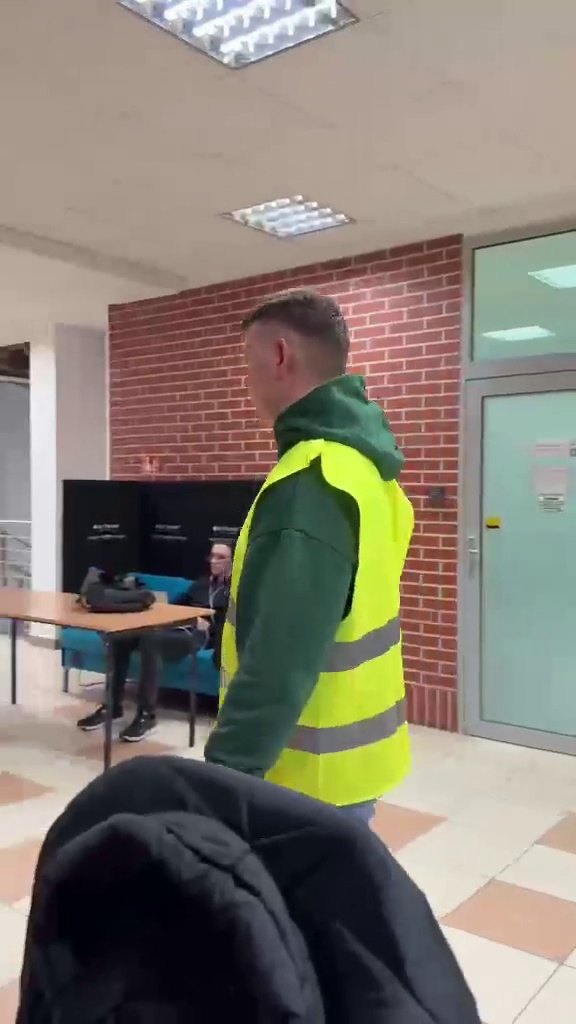no vest: (78, 523, 234, 741)
vest: (218, 277, 417, 822)
